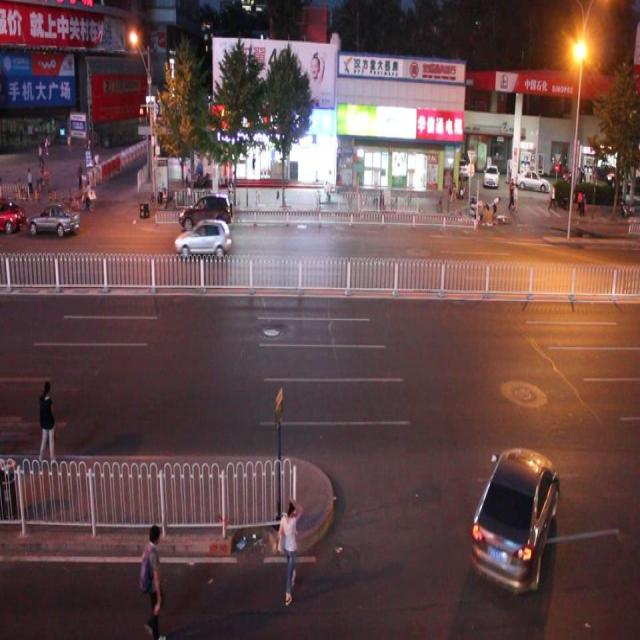car: (467, 444, 559, 597), (172, 215, 230, 260), (177, 188, 232, 234), (26, 200, 81, 239)
